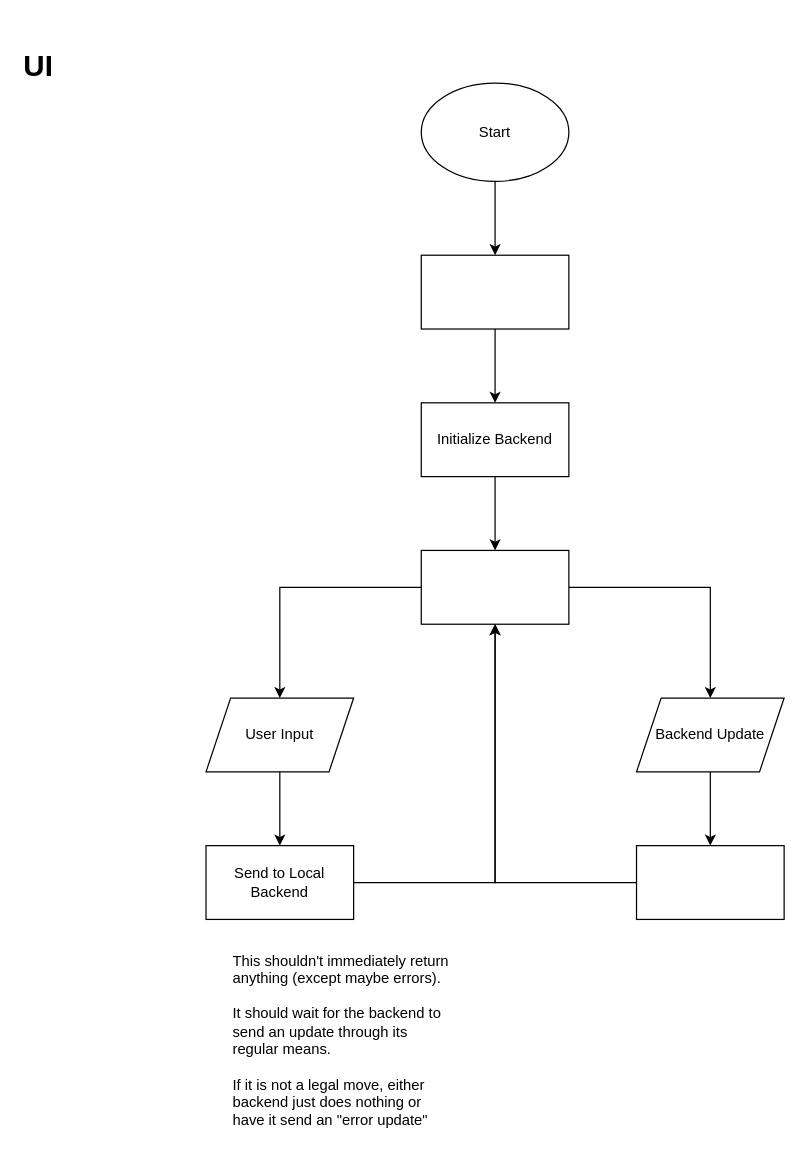
Image size: 806x1165. Some labels were removed from this diagram. Here are the shapes that lost their labels. From the top down, the centre of each, then its label:
the point at 494,291: Initialize and Prompt to Connect
the point at 494,586: Wait for Event
the point at 709,881: Update UI
